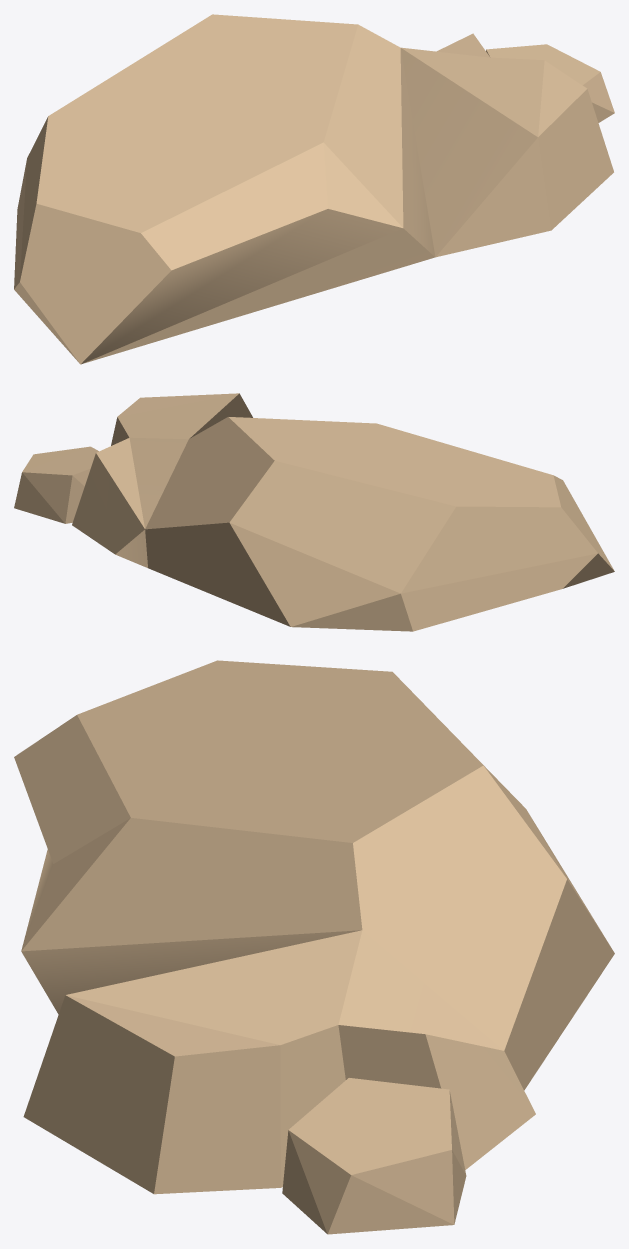
File: nature-stone-small-flat.glb
The picture shows the model from 3 angles, top to bottom: view 1: azimuth 30°, elevation 25°; view 2: azimuth 150°, elevation 25°; view 3: azimuth 270°, elevation 25°; orthographic projection. The views are drawn at different scales.
Visible parts, largest first — view 1: stone-small-flat; view 2: stone-small-flat; view 3: stone-small-flat.
Part boxes in pixels (bbox=[...]): stone-small-flat: bbox=[14, 14, 614, 364]; stone-small-flat: bbox=[14, 393, 614, 631]; stone-small-flat: bbox=[14, 660, 614, 1234].
Size of the model in its own units: 1.4 by 0.3652 by 0.7608.
